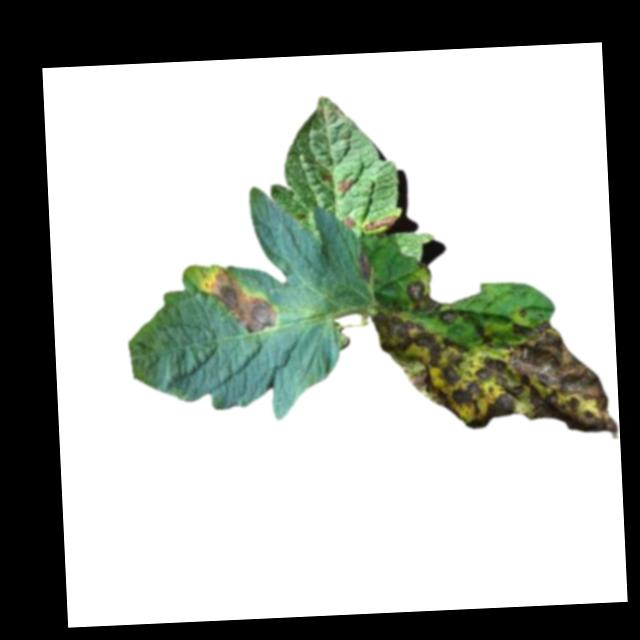Early_blight: (370, 303, 615, 449), (203, 263, 282, 337), (406, 276, 454, 314), (362, 214, 401, 230), (355, 251, 375, 281), (335, 172, 356, 193), (341, 216, 357, 229)
